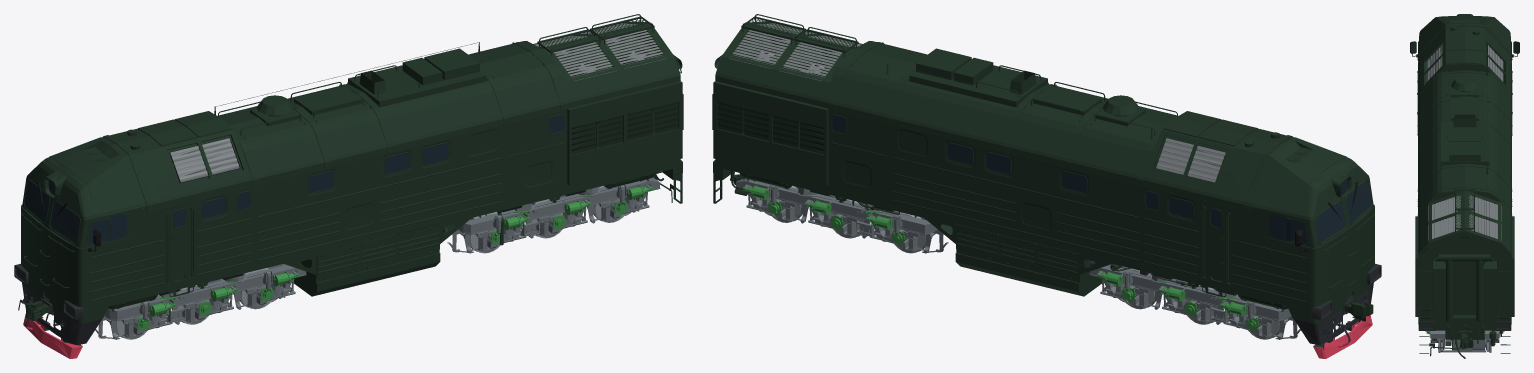
File: loco_2te116u.glb
3 renders of one model, left to right at view 1: azimuth 30°, elevation 25°; view 2: azimuth 150°, elevation 25°; view 3: azimuth 270°, elevation 25°, orthographic. The views are drawn at different scales.
Visible parts, largest first — view 1: lc_krisha, lc_kuzov2, lc_kuzov, lc_kuzov3, lc_bogie_front_001, lc_bogie_front, lc_stekla, lc_niz, lc_zhaluzi3, lc_zhaluzi2, lc_zhaluzi; view 2: lc_krisha, lc_kuzov2, lc_kuzov, lc_kuzov3, lc_bogie_front_001, lc_bogie_front, lc_stekla, lc_niz, lc_zhaluzi3, lc_zhaluzi2, lc_zhaluzi; view 3: lc_krisha, lc_kuzov, lc_zhaluzi3, lc_kuzov3, lc_bogie_front_001, lc_zhaluzi, lc_kuzov2, lc_niz, lc_zerkala.
Part boxes in pixels (x1,y1,x2,y2): lc_krisha: [27, 14, 680, 219]; lc_kuzov2: [84, 82, 682, 297]; lc_kuzov: [21, 31, 683, 323]; lc_kuzov3: [22, 160, 682, 322]; lc_bogie_front_001: [447, 177, 660, 253]; lc_bogie_front: [95, 264, 306, 339]; lc_stekla: [24, 115, 563, 244]; lc_niz: [14, 227, 448, 358]; lc_zhaluzi3: [534, 23, 666, 81]; lc_zhaluzi2: [571, 102, 678, 154]; lc_zhaluzi: [170, 138, 239, 182]; lc_krisha: [715, 14, 1368, 219]; lc_kuzov2: [713, 81, 1311, 297]; lc_kuzov: [712, 31, 1374, 323]; lc_kuzov3: [713, 160, 1373, 322]; lc_bogie_front_001: [735, 178, 948, 253]; lc_bogie_front: [1089, 264, 1300, 339]; lc_stekla: [832, 115, 1371, 243]; lc_niz: [911, 214, 1381, 358]; lc_zhaluzi3: [729, 23, 861, 81]; lc_zhaluzi2: [717, 102, 824, 154]; lc_zhaluzi: [1156, 138, 1225, 182]; lc_krisha: [1418, 14, 1511, 258]; lc_kuzov: [1415, 62, 1512, 324]; lc_zhaluzi3: [1428, 195, 1501, 240]; lc_kuzov3: [1417, 190, 1512, 358]; lc_bogie_front_001: [1425, 330, 1504, 352]; lc_zhaluzi: [1426, 45, 1503, 81]; lc_kuzov2: [1417, 36, 1514, 316]; lc_niz: [1420, 323, 1509, 328]; lc_zerkala: [1410, 42, 1519, 53].
Bounding box in the file's own units: 18.51 × 5.26 × 3.59.
